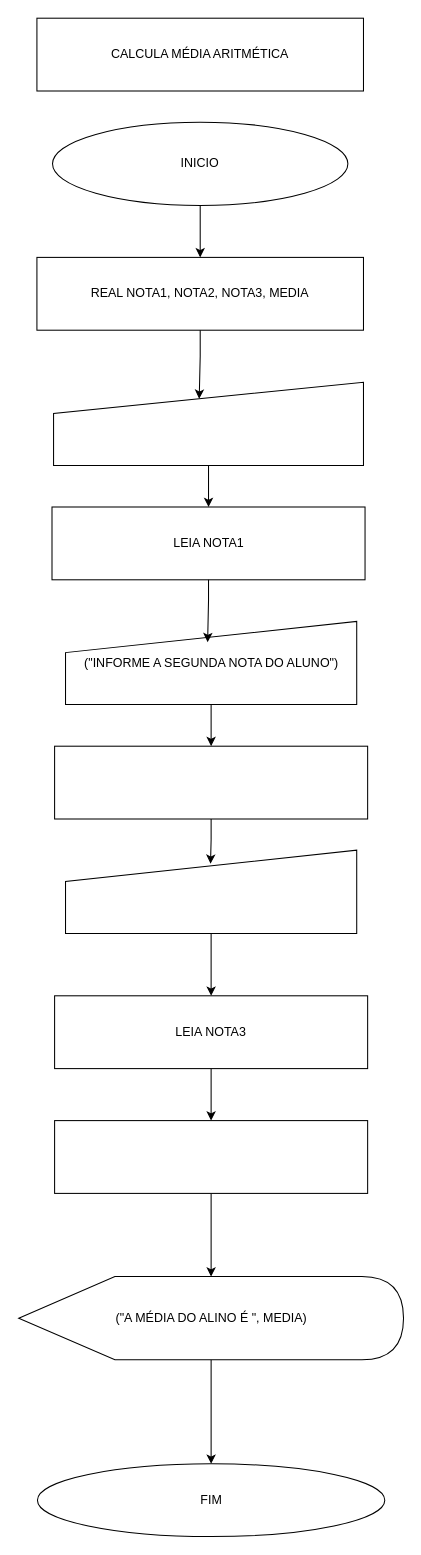
Image size: 421x1555. Some labels were removed from this diagram. Each missing label, with the centre of its shape:
("INFORME A PRIMEIRA NOTA DO ALUNO"): (208,423)
("INFORME A TERCEIRA NOTA DO ALUNO"): (210,891)
LEIA NOTA2: (211,782)
MEDIA = (NOTA 1 + NOTA2 + NOTA3) / 3: (211,1156)
